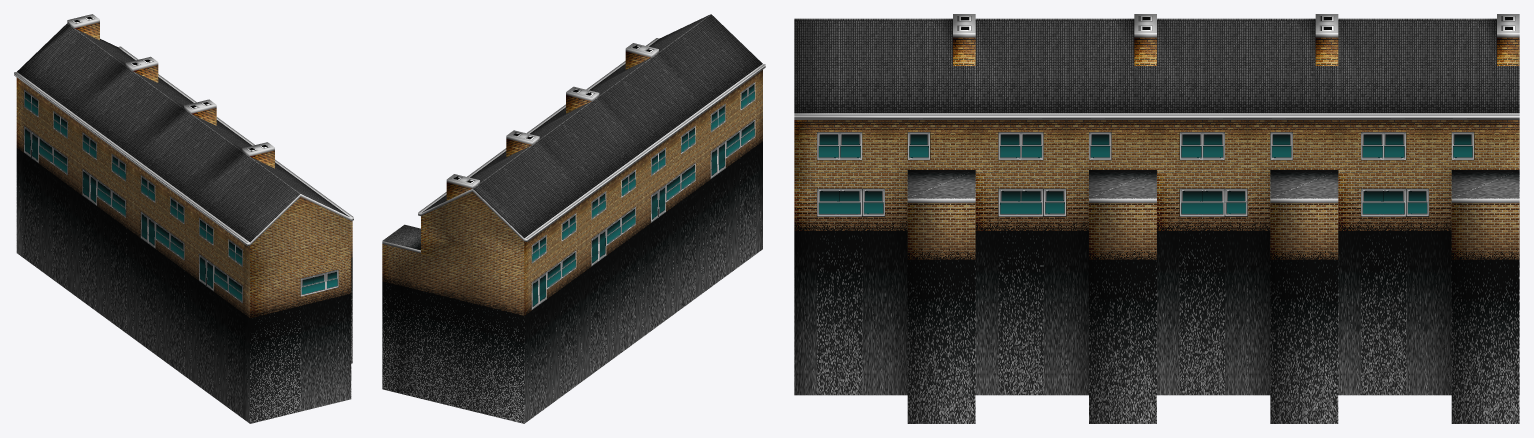
The model's file is doorzon_mod1_3b.fbx.
3 views of the same model, side by side, from view 1: azimuth 30°, elevation 25°; view 2: azimuth 150°, elevation 25°; view 3: azimuth 270°, elevation 25° (orthographic). The views are drawn at different scales.
Parts seen in each view (by area): view 1: doorzon_mod1_3b; view 2: doorzon_mod1_3b; view 3: doorzon_mod1_3b.
Boxes of the visible parts, bbox=[...] form: doorzon_mod1_3b: bbox=[14, 14, 353, 423]; doorzon_mod1_3b: bbox=[382, 14, 765, 423]; doorzon_mod1_3b: bbox=[794, 14, 1519, 423].
Bounding box in the file's own units: 1262 × 1879 × 3600.
